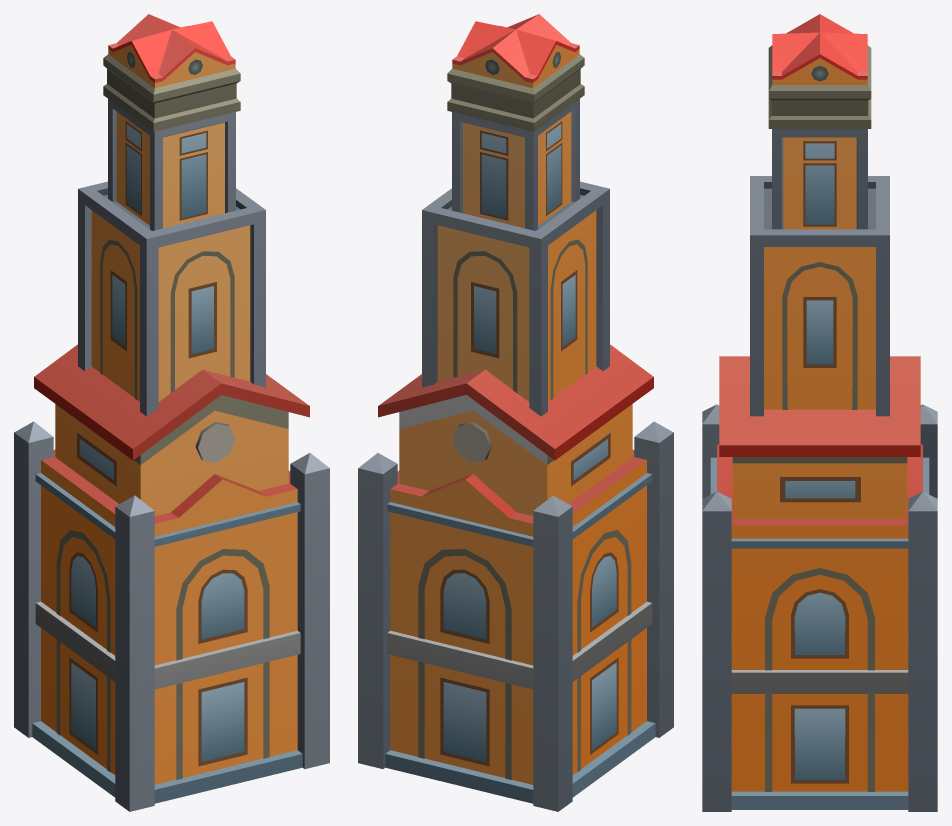
File: Town_Hall.fbx
The picture shows the model from 3 angles, left to right: view 1: azimuth 30°, elevation 25°; view 2: azimuth 150°, elevation 25°; view 3: azimuth 270°, elevation 25°; orthographic projection.
Visible parts, largest first — view 1: Town_Hall; view 2: Town_Hall; view 3: Town_Hall.
Boxes of the visible parts, box(x1,y1,x2,y2) form: Town_Hall: box(14, 14, 329, 811); Town_Hall: box(358, 14, 673, 811); Town_Hall: box(702, 14, 937, 811).
Bounding box in the file's own units: 686 × 2343 × 686.
